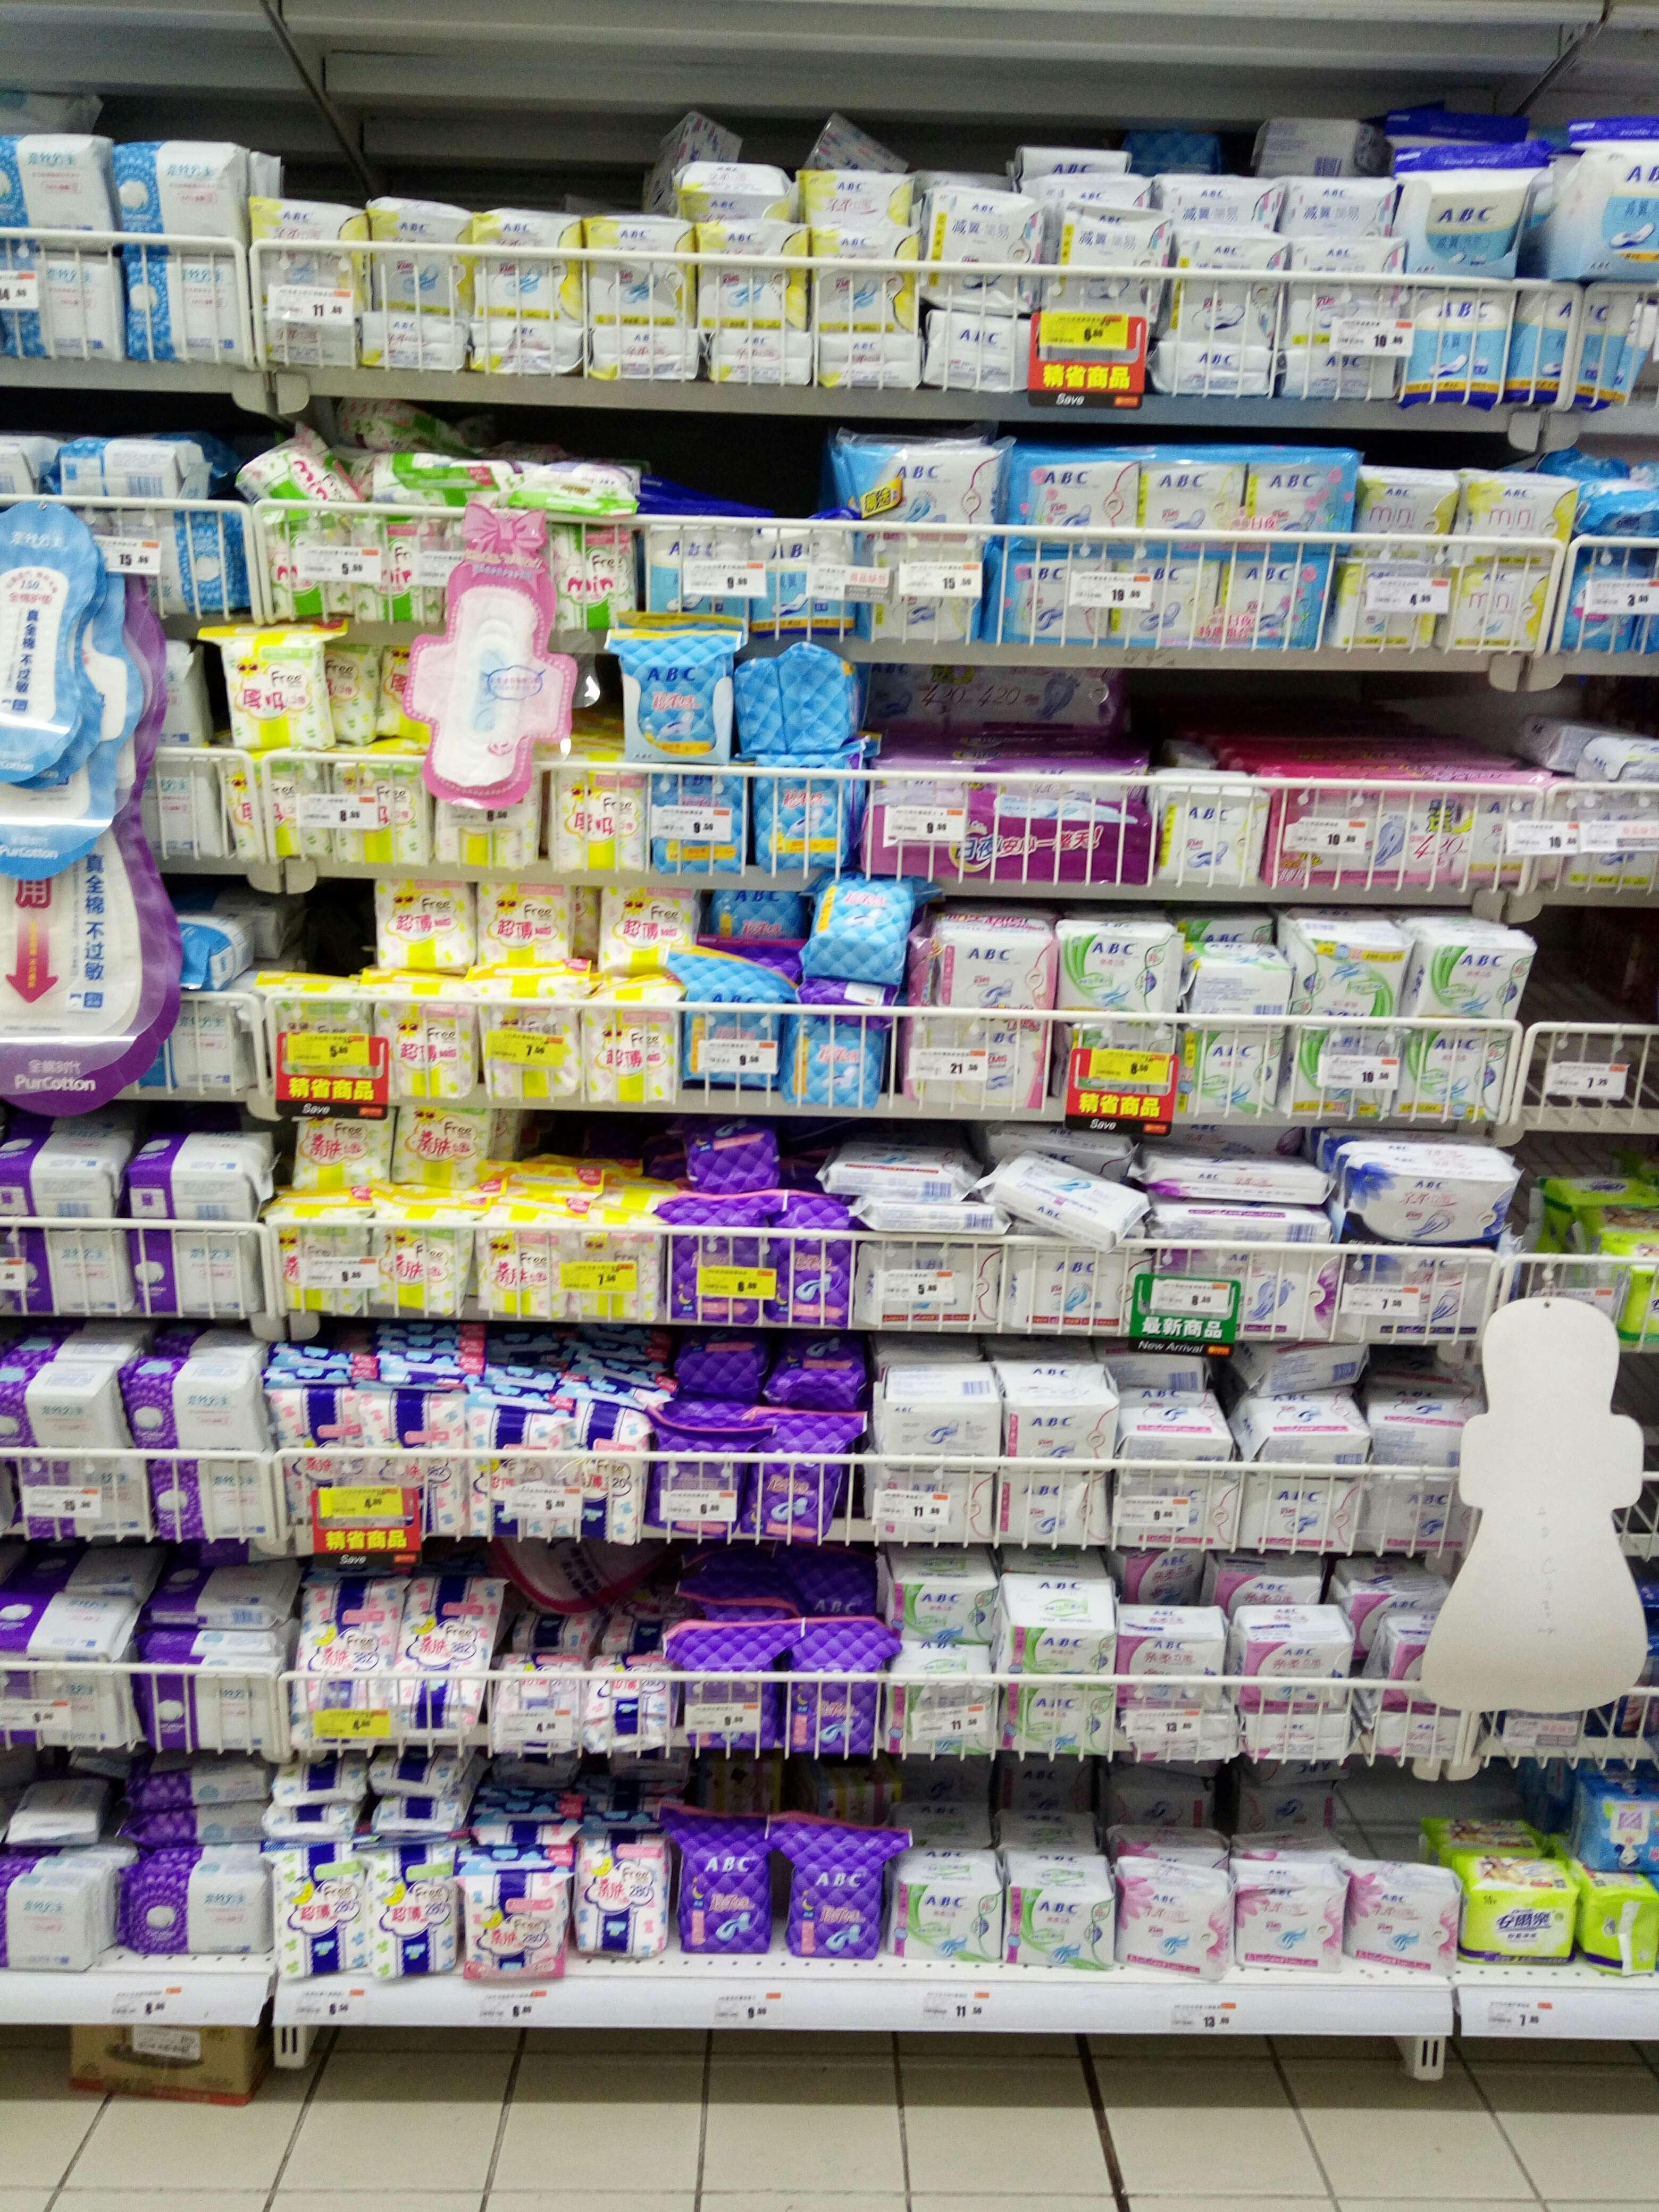misalignment: (990, 1150, 1152, 1252), (1560, 132, 1659, 270), (56, 434, 220, 509), (823, 1155, 986, 1228), (1570, 1855, 1657, 1979), (812, 869, 904, 979), (1187, 934, 1288, 1012), (249, 437, 352, 505), (687, 1115, 777, 1190)
